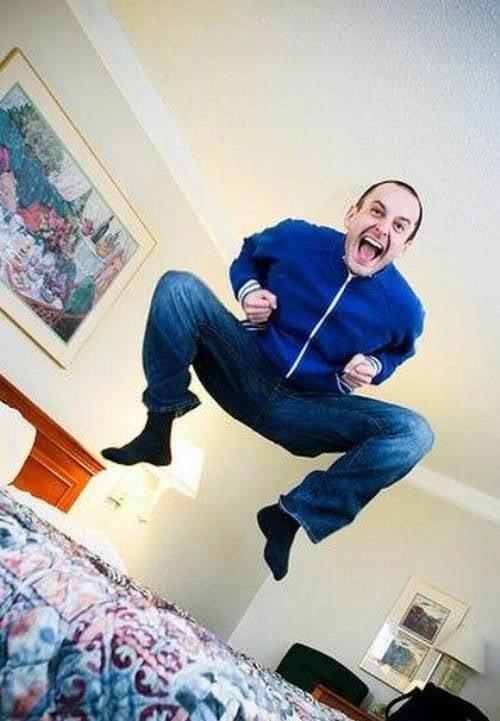person: (102, 174, 440, 586)
